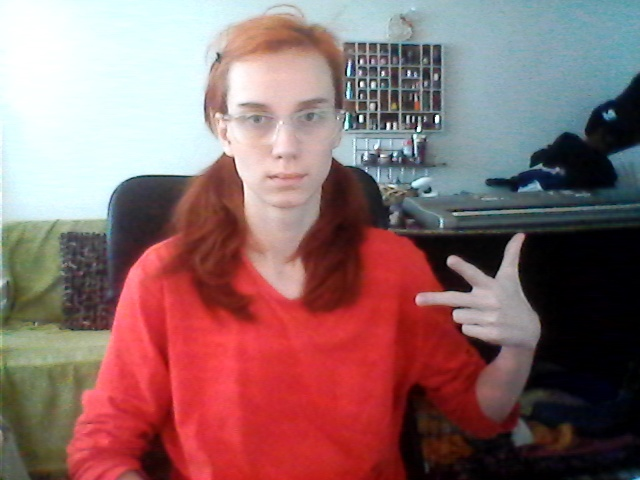tri: (412, 231, 549, 359)
